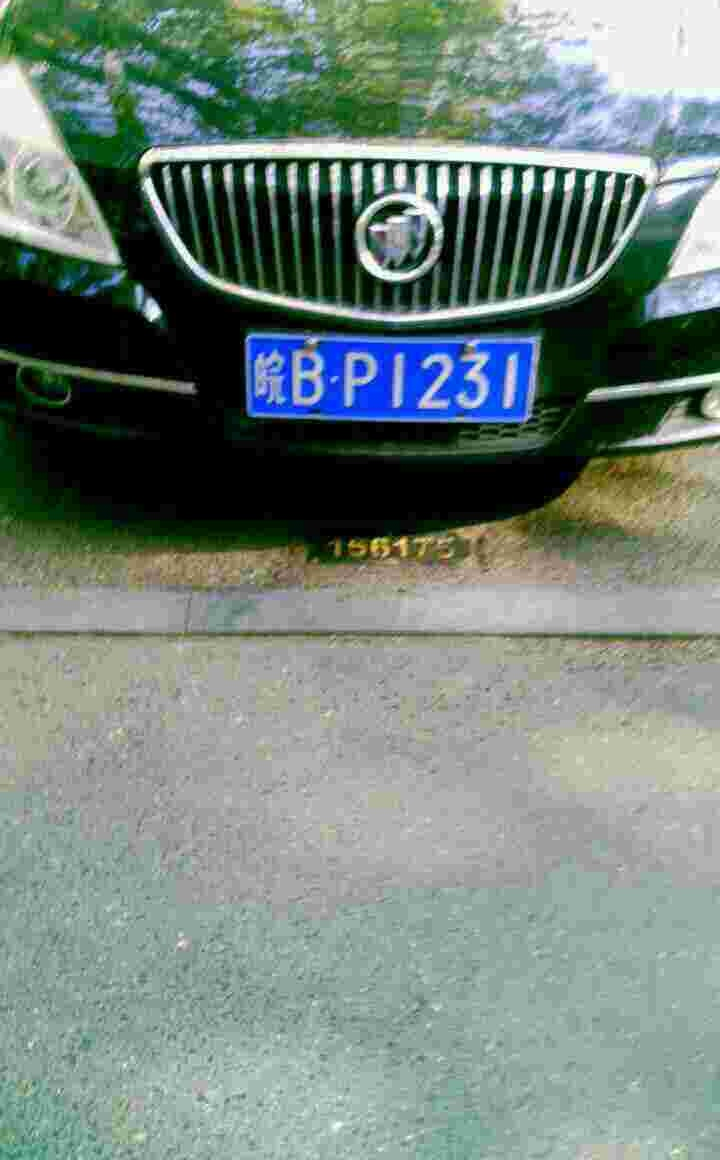license_plate: (244, 336, 539, 425)
